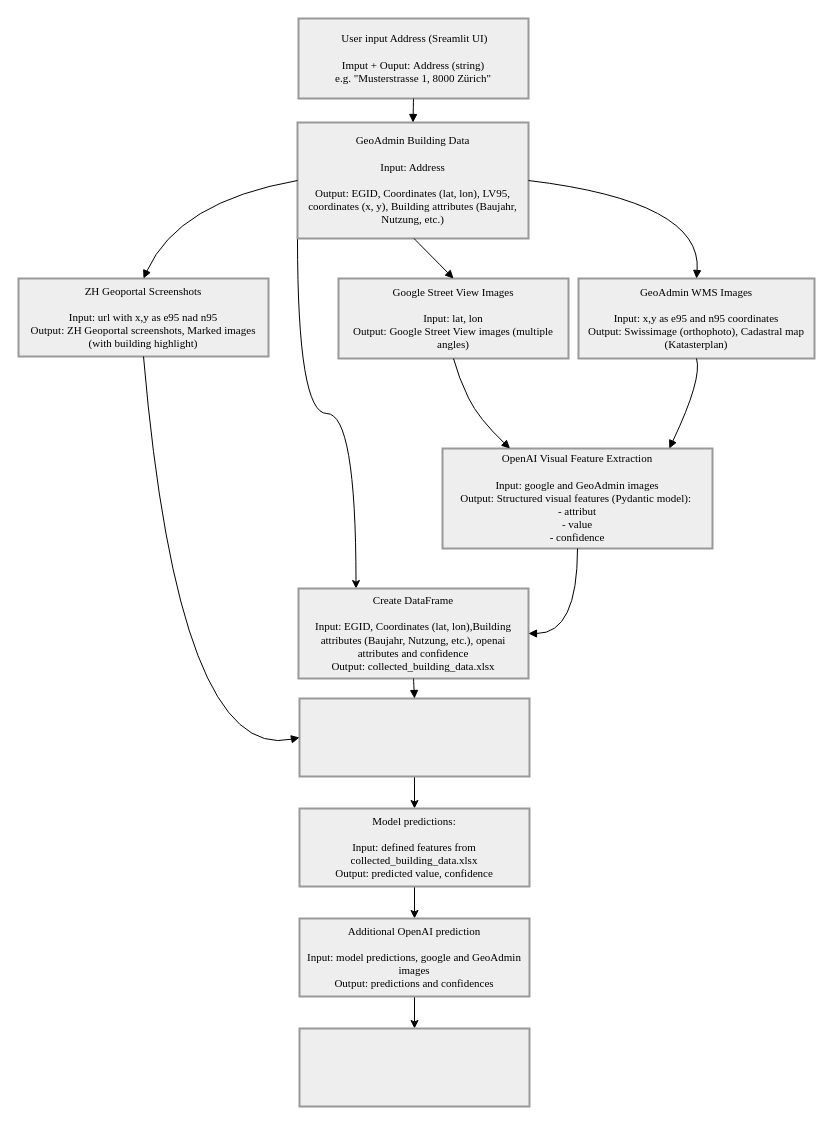
Some shapes in this 832 by 1124 pixel diagram are drawn without their labels. Each missing label, with the centre of its shape:
"OpenAi summary Input: model and openAI predictions with confidences" belongs at point (414, 1067).
"Persist Data (excel and images)" belongs at point (414, 737).
